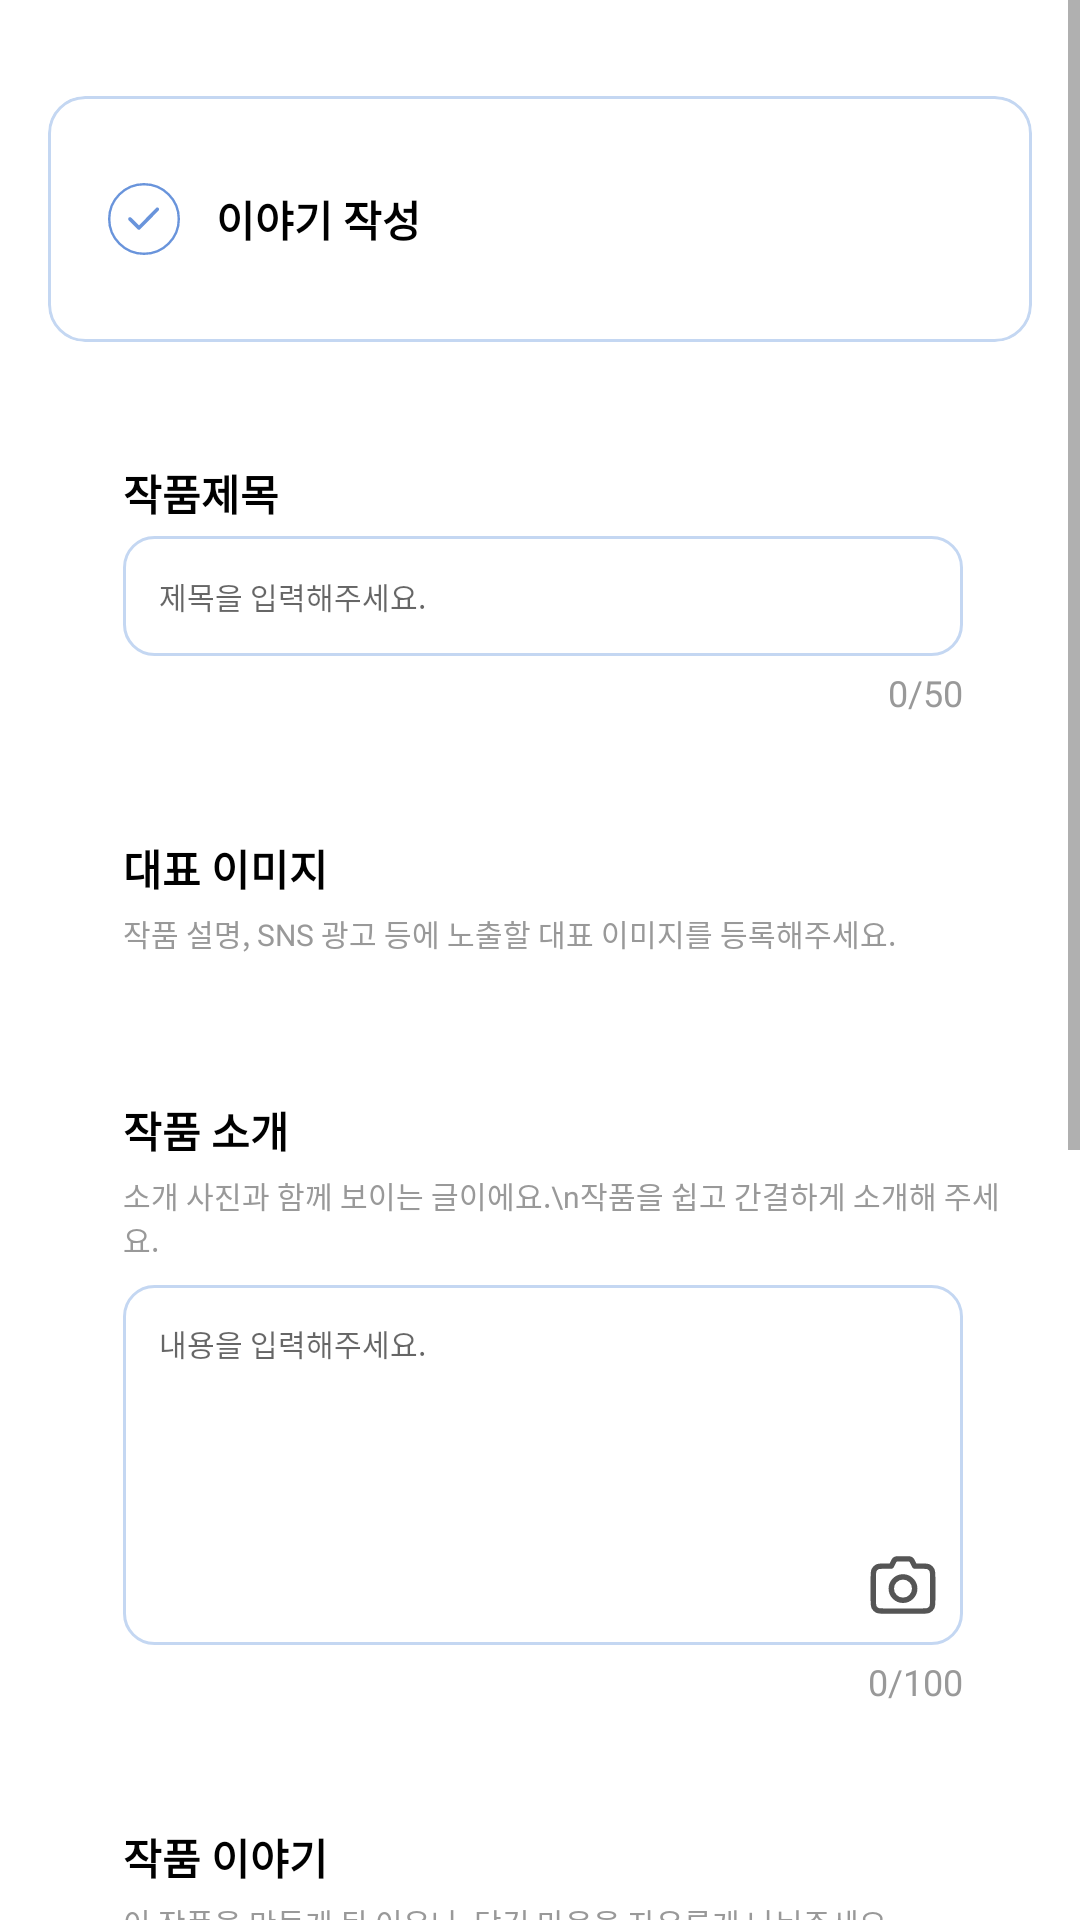

Named icons in this screenshot (1080w x 1920h) and their centers, (x=x, y=y):
camera: (x=903, y=1585)
check: (x=144, y=219)
